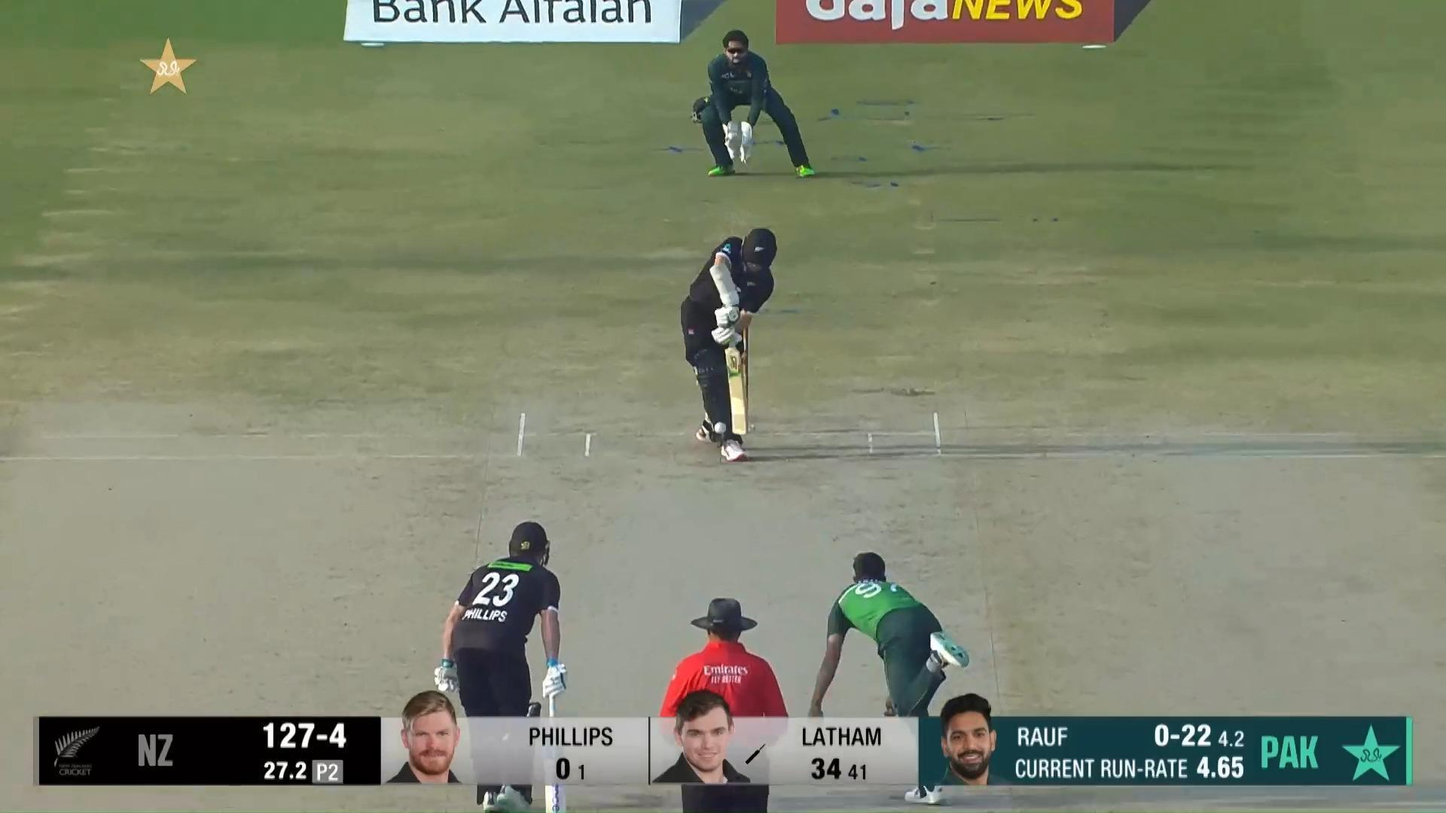BM 1: (678, 225, 779, 463)
BO: (806, 548, 971, 806)
